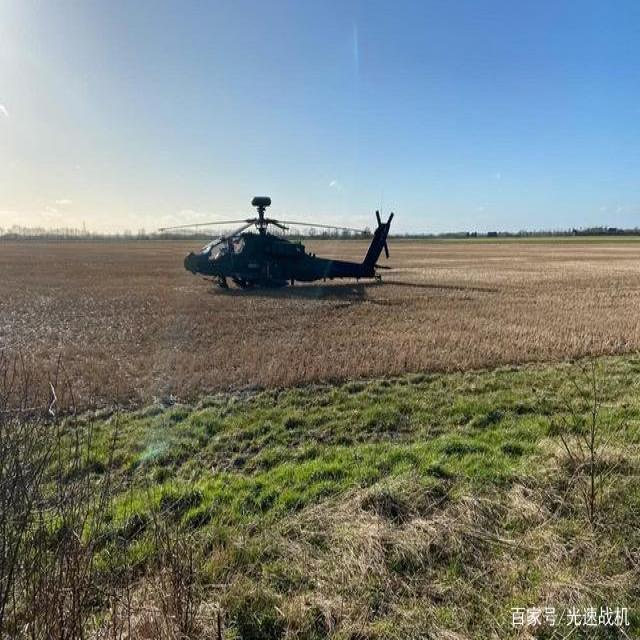MIL_HELO: (160, 195, 400, 306)
